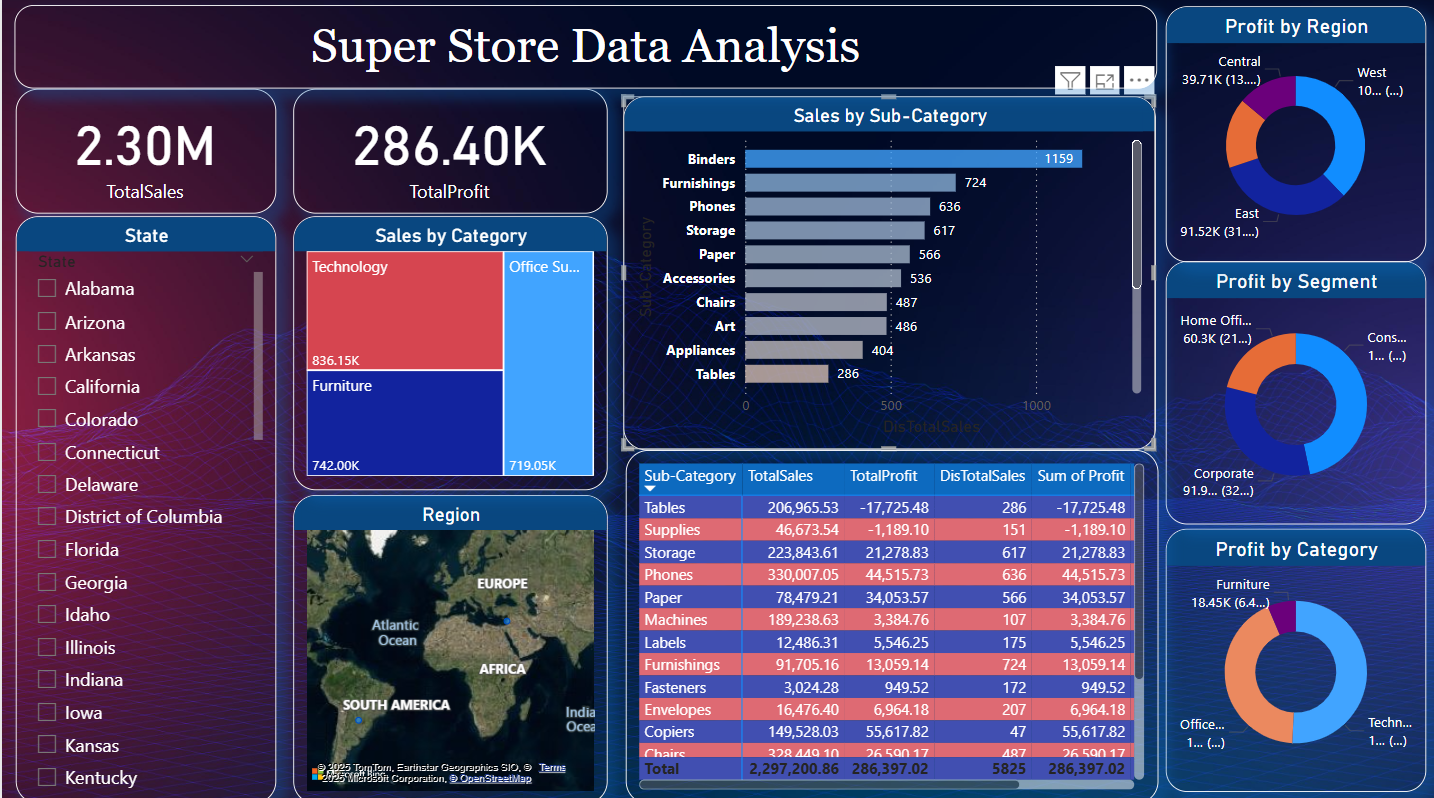

The page's visual inventory and layout, read from the dashboard file:
{"tool":"powerbi","page":{"name":"Page 1","canvas":[1280,720],"ordinal":0},"visuals":[{"type":"map","fields":{"Category":["SampleSuperstore.Region"]},"box":[259.4,445.2,279.9,275.1],"z":0},{"type":"card","fields":{"Values":["SampleSuperstore.TotalSales"]},"box":[12.1,83.2,231.6,111],"z":1000},{"type":"card","fields":{"Values":["SampleSuperstore.TotalProfit"]},"box":[259.4,83.2,279.9,111],"z":2000},{"type":"barChart","title":"Sales by Sub-Category","fields":{"Y":["SampleSuperstore.DisTotalSales"],"Category":["SampleSuperstore.Sub-Category"]},"box":[553.8,90.5,474.1,314.9],"z":3000},{"type":"treemap","title":"Sales by Category","fields":{"Group":["SampleSuperstore.Category"],"Values":["Sum(SampleSuperstore.Sales)"]},"box":[259.4,196.6,279.9,243.7],"z":4000},{"type":"textbox","box":[11.6,9.3,1017.4,74.4],"z":5000},{"type":"donutChart","title":"Profit by Category","fields":{"Category":["SampleSuperstore.Category"],"Y":["Sum(SampleSuperstore.Profit)"]},"box":[1036,474.8,231.9,234.6],"z":6000},{"type":"donutChart","title":"Profit by Segment","fields":{"Category":["SampleSuperstore.Segment"],"Y":["Sum(SampleSuperstore.Profit)"]},"box":[1036,237.4,231.9,234.6],"z":7000},{"type":"donutChart","title":"Profit by Region","fields":{"Category":["SampleSuperstore.Region"],"Y":["Sum(SampleSuperstore.Profit)"]},"box":[1036,9.6,231.9,227.8],"z":8000},{"type":"slicer","title":"State","fields":{"Values":["SampleSuperstore.State"]},"box":[12.1,196.6,231.6,523.6],"z":9000},{"type":"pivotTable","fields":{"Rows":["SampleSuperstore.Sub-Category"],"Values":["SampleSuperstore.TotalSales","SampleSuperstore.TotalProfit","SampleSuperstore.DisTotalSales","Sum(SampleSuperstore.Profit)","Sum(SampleSuperstore.Discount)"]},"box":[555,405.4,474.1,314.9],"z":10001}]}

Visuals, with their boxes in screenshot pixels (x1, y1, x2, y2), scaled from the page's 1280x720 canvas onto the 1434x798 screenshot:
map - SampleSuperstore.Region: <region>291, 493, 604, 797</region>
card - SampleSuperstore.TotalSales: <region>14, 92, 273, 215</region>
card - SampleSuperstore.TotalProfit: <region>291, 92, 604, 215</region>
"Sales by Sub-Category" barChart: <region>620, 100, 1152, 449</region>
"Sales by Category" treemap: <region>291, 218, 604, 488</region>
textbox: <region>13, 10, 1153, 93</region>
"Profit by Category" donutChart: <region>1161, 526, 1420, 786</region>
"Profit by Segment" donutChart: <region>1161, 263, 1420, 523</region>
"Profit by Region" donutChart: <region>1161, 11, 1420, 263</region>
"State" slicer: <region>14, 218, 273, 797</region>
pivotTable - SampleSuperstore.Sub-Category x SampleSuperstore.TotalSales: <region>622, 449, 1153, 797</region>
